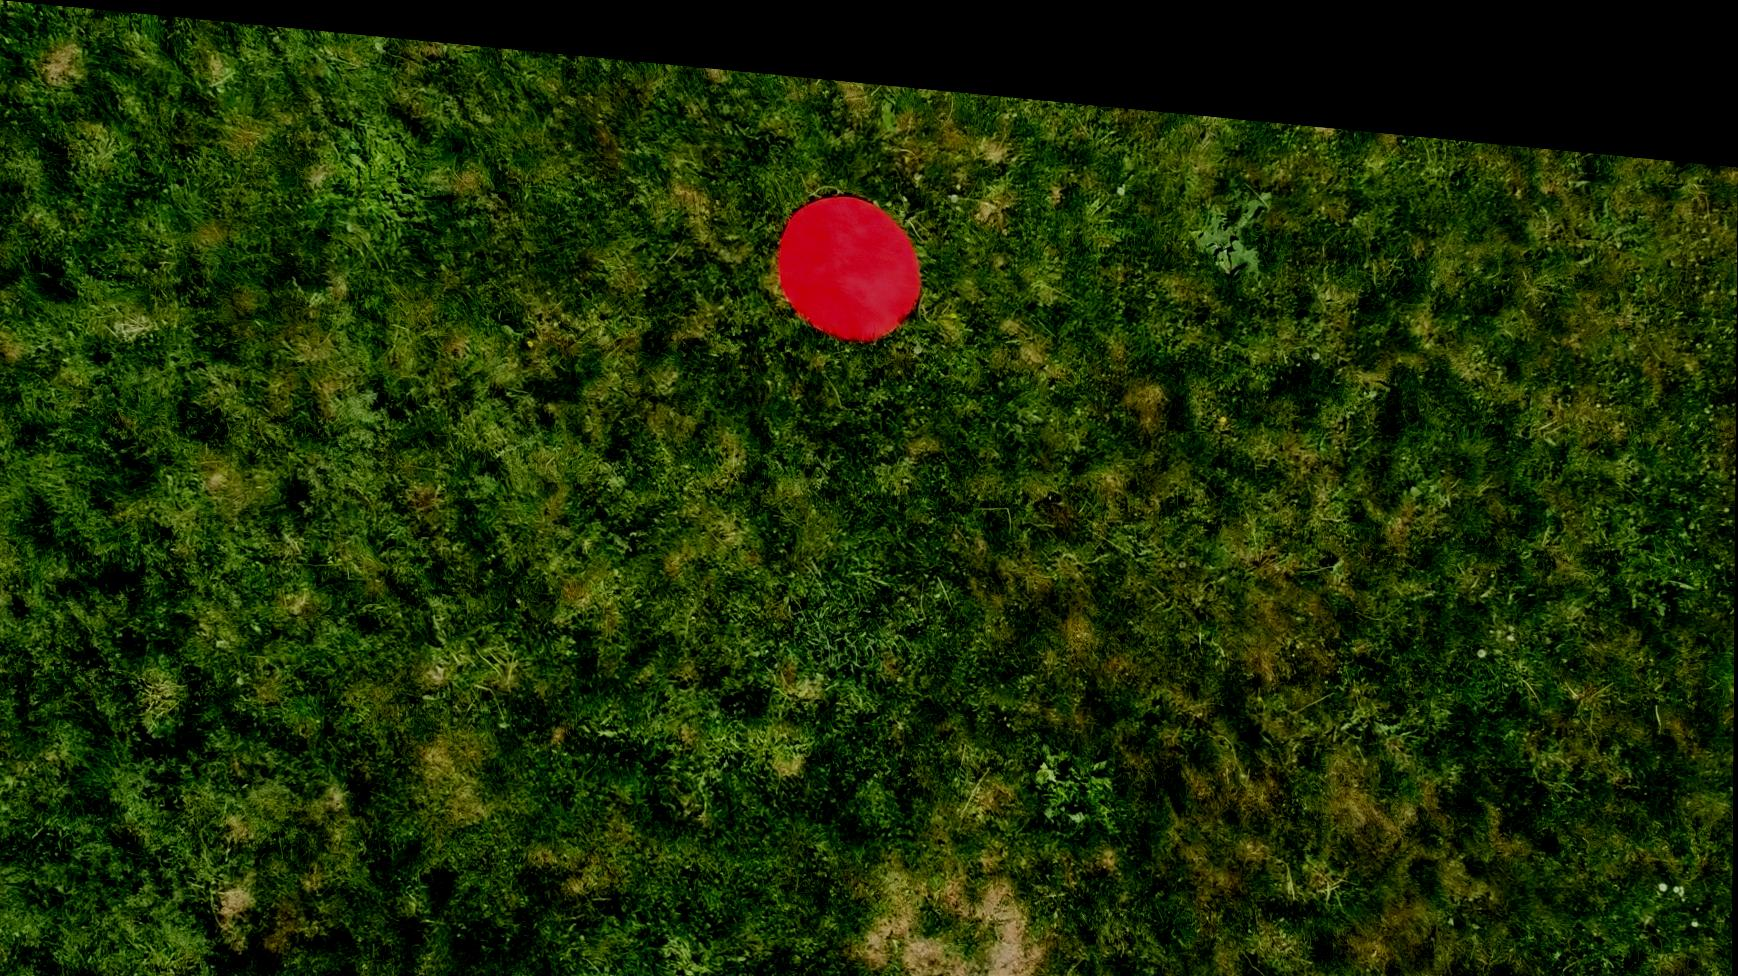Red: (769, 162, 929, 341)
